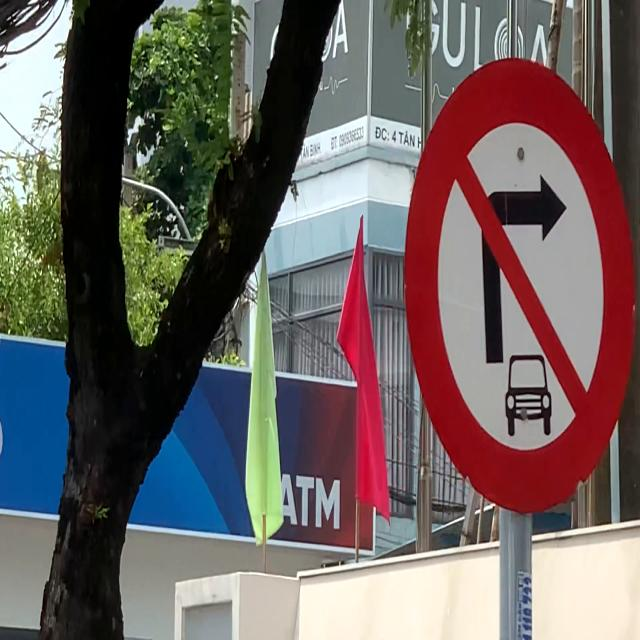P.103b: (401, 54, 640, 519)
